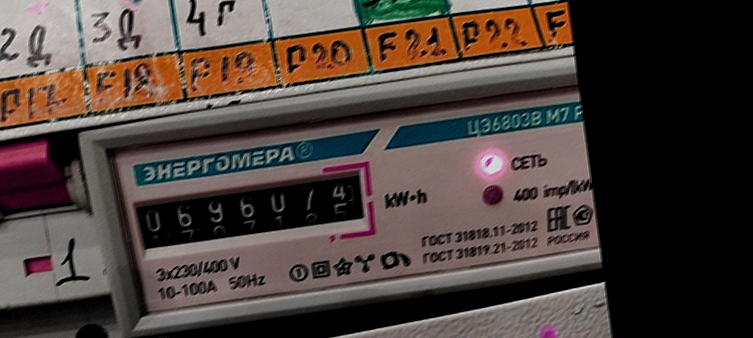0: (142, 207, 164, 234), (268, 187, 288, 215)
4: (329, 178, 348, 202)
5: (332, 201, 350, 223)
6: (236, 191, 257, 221), (174, 202, 195, 229)
7: (299, 184, 319, 212)
9: (205, 197, 225, 225)
screen: (122, 159, 383, 271)
